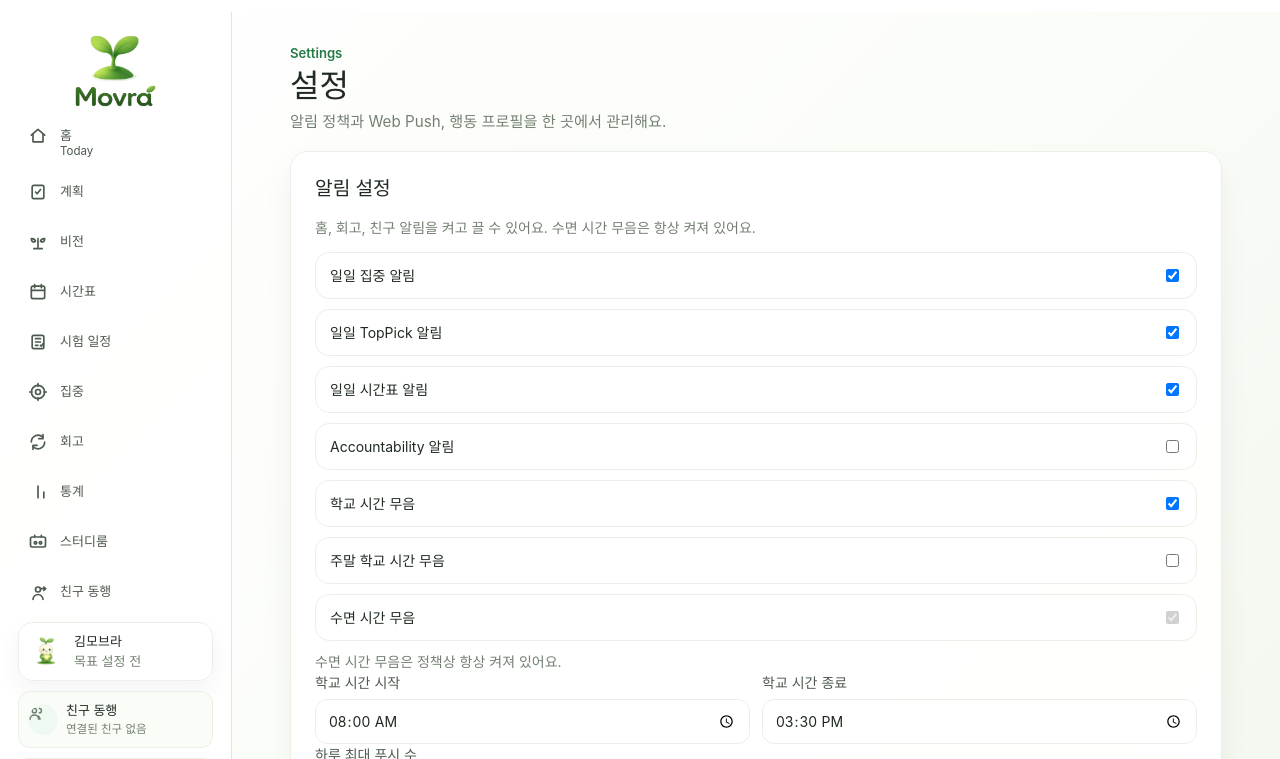
Test: SettingsPage notification section › blocks save when school hours start equals end
The width and height of the screenshot is (1280, 759).
Expected: the time field labelled "학교 시간 시작" holds "08:00", left=315, top=699, right=750, bottom=744
Replace the text in the time field labelled "학교 시간 종료" with "08:00" at (980, 721), box left=762, top=699, right=1197, bottom=744
(page scrolled)
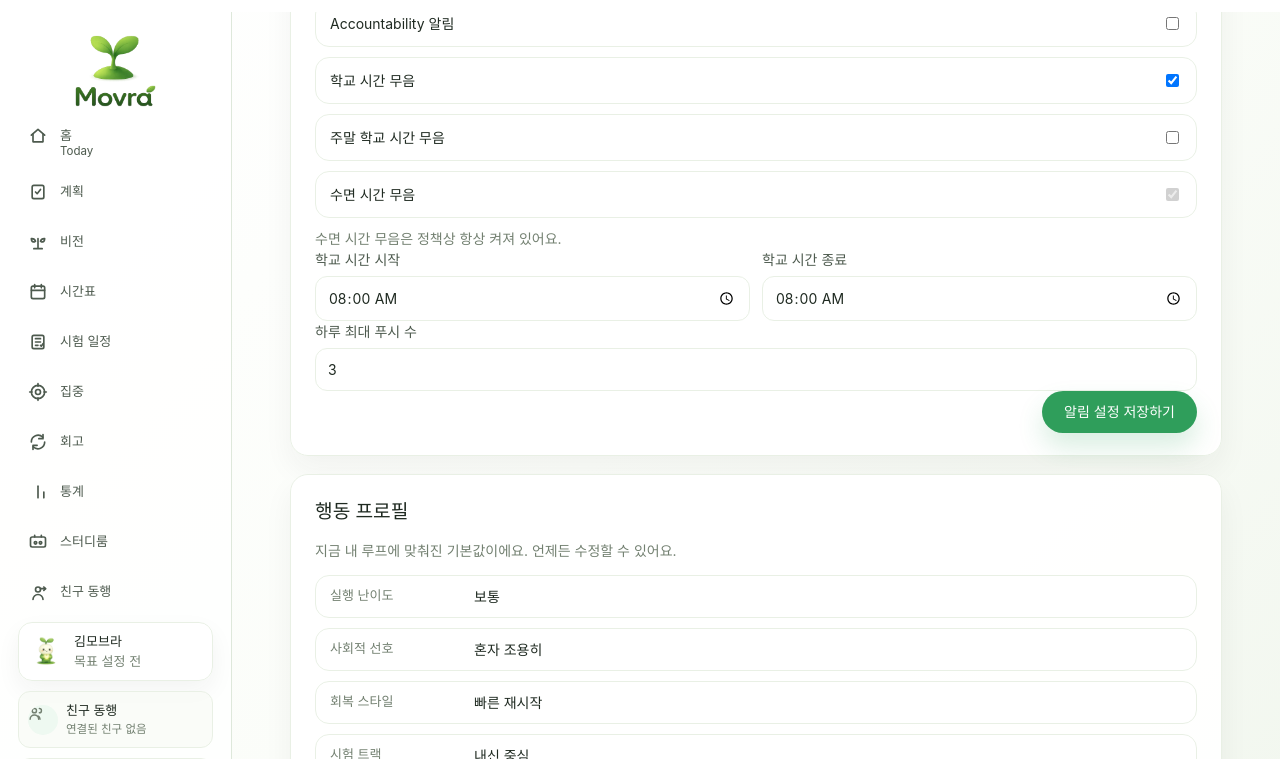
Click the button "알림 설정 저장하기" at (1120, 412), box left=1042, top=391, right=1197, bottom=433
(page scrolled)
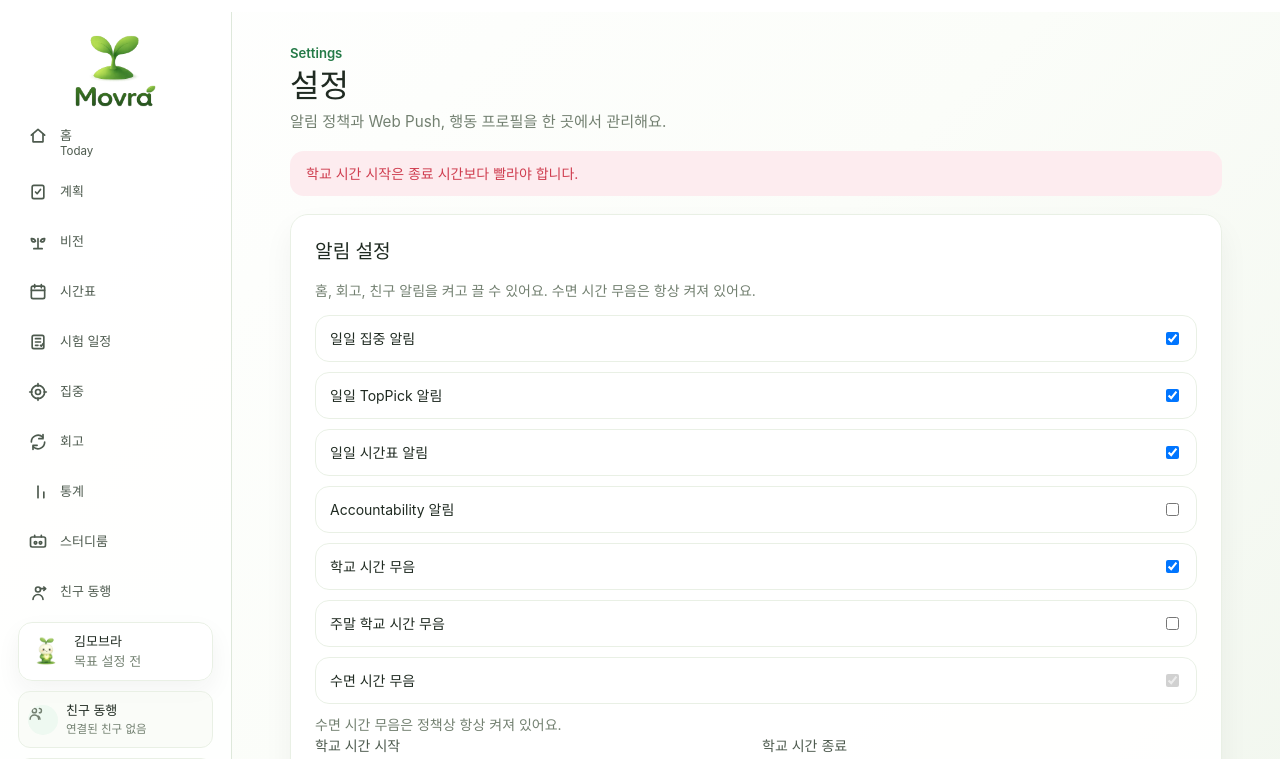
Now the text "학교 시간 시작은 종료 시간보다 빨라야 합니다." is shown, box left=290, top=151, right=1222, bottom=196
